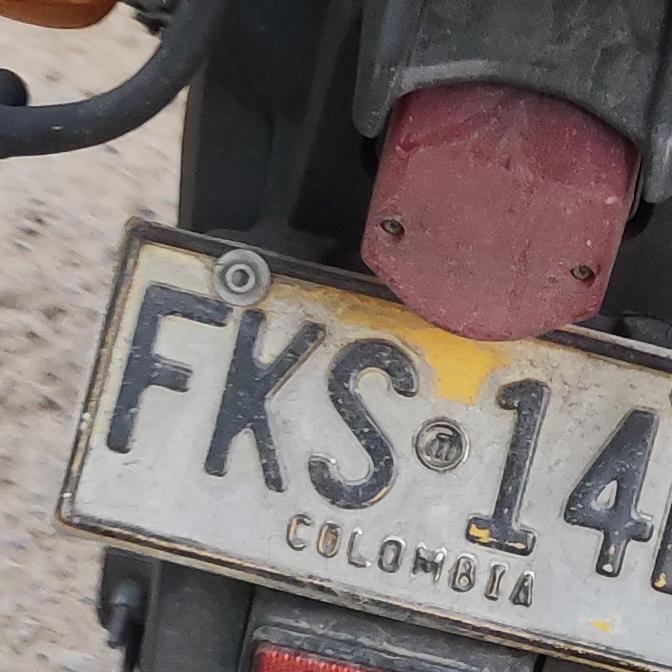plates: (54, 227, 672, 672)
